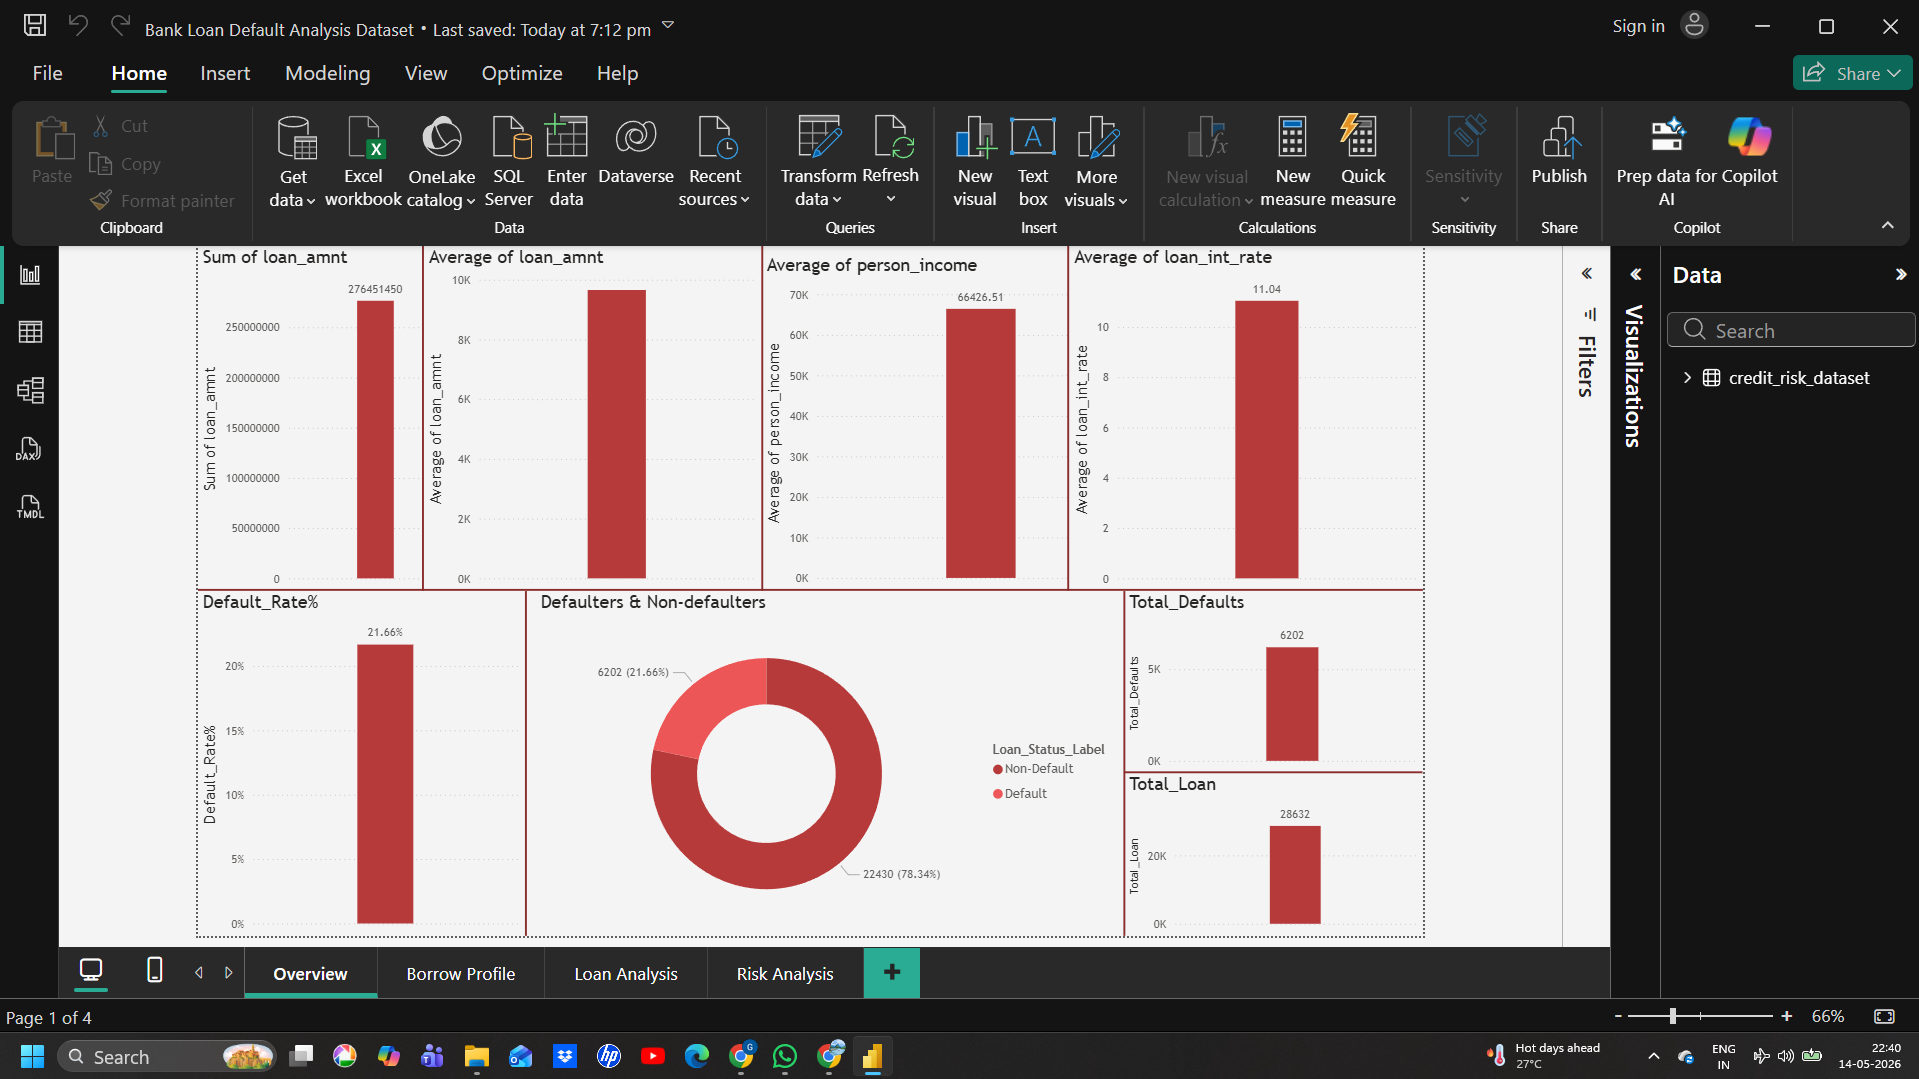

The page's visual inventory and layout, read from the dashboard file:
{"tool":"powerbi","page":{"name":"Overview","canvas":[1280,720],"ordinal":0},"visuals":[{"type":"columnChart","fields":{"Y":["Sum(credit_risk_dataset.loan_amnt)"]},"box":[0,0,282.5,360.3],"z":0},{"type":"columnChart","fields":{"Y":["credit_risk_dataset.Total_Loan"]},"box":[968.3,550.8,311.1,169.8],"z":1000},{"type":"columnChart","fields":{"Y":["credit_risk_dataset.Total_Defaults"]},"box":[968.3,360.3,311.1,190.5],"z":2000},{"type":"clusteredColumnChart","fields":{"Y":["credit_risk_dataset.Default_ratee%"]},"box":[0,360.3,341.3,360.3],"z":3000},{"type":"columnChart","fields":{"Y":["Avg(credit_risk_dataset.person_income)"]},"box":[588.9,9.5,407.9,350.8],"z":4000},{"type":"columnChart","fields":{"Y":["Avg(credit_risk_dataset.loan_amnt)"]},"box":[236.5,0,352.4,360.3],"z":5000},{"type":"columnChart","fields":{"Y":["Avg(credit_risk_dataset.loan_int_rate)"]},"box":[909.5,0,369.8,360.3],"z":6000},{"type":"donutChart","title":"Defaulters & Non-defaulters","fields":{"Y":["CountNonNull(credit_risk_dataset.loan_status)"],"Category":["credit_risk_dataset.Loan_Status_Label"]},"box":[352.4,360.3,615.9,360.3],"z":7000},{"type":"shape","box":[0,338.1,1279.4,42.9],"z":8000},{"type":"shape","box":[214.3,0,42.9,360.3],"z":9000},{"type":"shape","box":[568.3,0,42.9,360.3],"z":10000},{"type":"shape","box":[922.2,360.3,90.5,360.3],"z":11000},{"type":"shape","box":[320.6,360.3,42.9,360.3],"z":12000},{"type":"shape","box":[887.3,0,42.9,360.3],"z":13000},{"type":"shape","box":[968.3,534.9,311.1,30.2],"z":14000}]}

Visuals, with their boxes on the page's 1280x720 design canvas (x1, y1, x2, y2). These are canvas units, not pixel positions in the 1919x1079 screenshot, which may show the page scaled, cropped or inside an application window:
columnChart - Sum(credit_risk_dataset.loan_amnt): {"x1": 0, "y1": 0, "x2": 282, "y2": 360}
columnChart - credit_risk_dataset.Total_Loan: {"x1": 968, "y1": 551, "x2": 1279, "y2": 721}
columnChart - credit_risk_dataset.Total_Defaults: {"x1": 968, "y1": 360, "x2": 1279, "y2": 551}
clusteredColumnChart - credit_risk_dataset.Default_ratee%: {"x1": 0, "y1": 360, "x2": 341, "y2": 721}
columnChart - Avg(credit_risk_dataset.person_income): {"x1": 589, "y1": 10, "x2": 997, "y2": 360}
columnChart - Avg(credit_risk_dataset.loan_amnt): {"x1": 236, "y1": 0, "x2": 589, "y2": 360}
columnChart - Avg(credit_risk_dataset.loan_int_rate): {"x1": 910, "y1": 0, "x2": 1279, "y2": 360}
"Defaulters & Non-defaulters" donutChart: {"x1": 352, "y1": 360, "x2": 968, "y2": 721}
shape: {"x1": 0, "y1": 338, "x2": 1279, "y2": 381}
shape: {"x1": 214, "y1": 0, "x2": 257, "y2": 360}
shape: {"x1": 568, "y1": 0, "x2": 611, "y2": 360}
shape: {"x1": 922, "y1": 360, "x2": 1013, "y2": 721}
shape: {"x1": 321, "y1": 360, "x2": 364, "y2": 721}
shape: {"x1": 887, "y1": 0, "x2": 930, "y2": 360}
shape: {"x1": 968, "y1": 535, "x2": 1279, "y2": 565}
